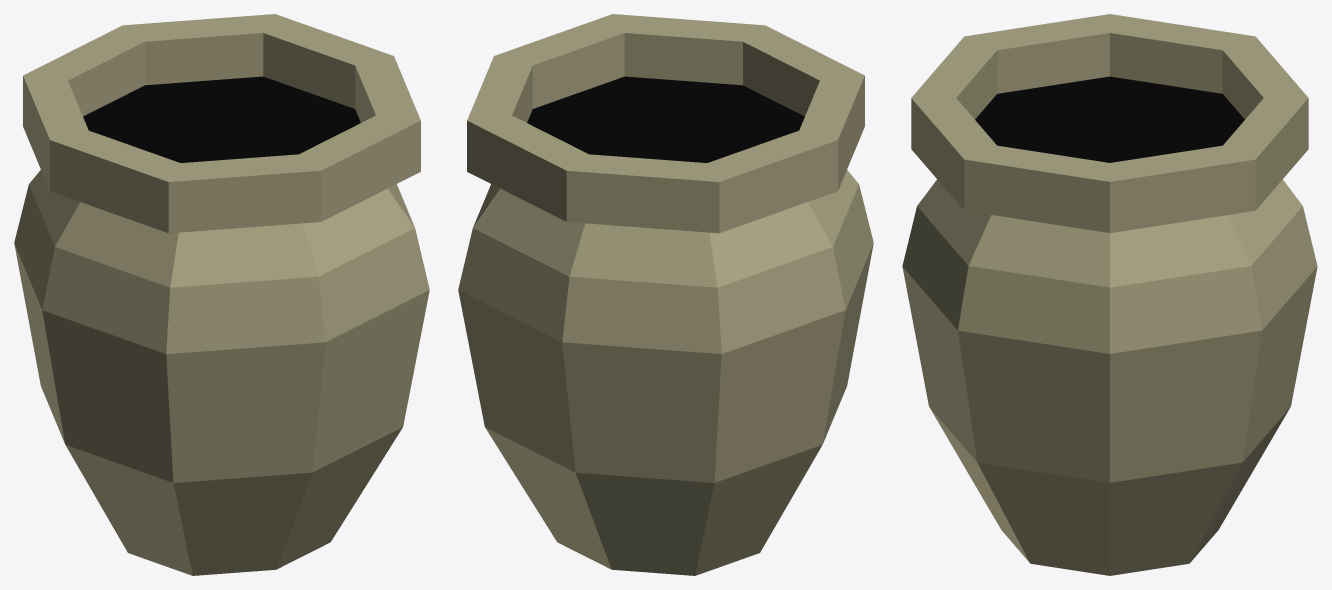
Rendered from Vasija4.fbx.
3 renders of one model, left to right at view 1: azimuth 30°, elevation 25°; view 2: azimuth 150°, elevation 25°; view 3: azimuth 270°, elevation 25°, orthographic.
Visible parts, largest first — view 1: Vasija4; view 2: Vasija4; view 3: Vasija4.
Part boxes in pixels (box(x1,y1,x2,y2)): Vasija4: box(14, 14, 429, 575); Vasija4: box(458, 14, 873, 575); Vasija4: box(902, 14, 1317, 575).
Bounding box in the file's own units: 157 × 181 × 157.
